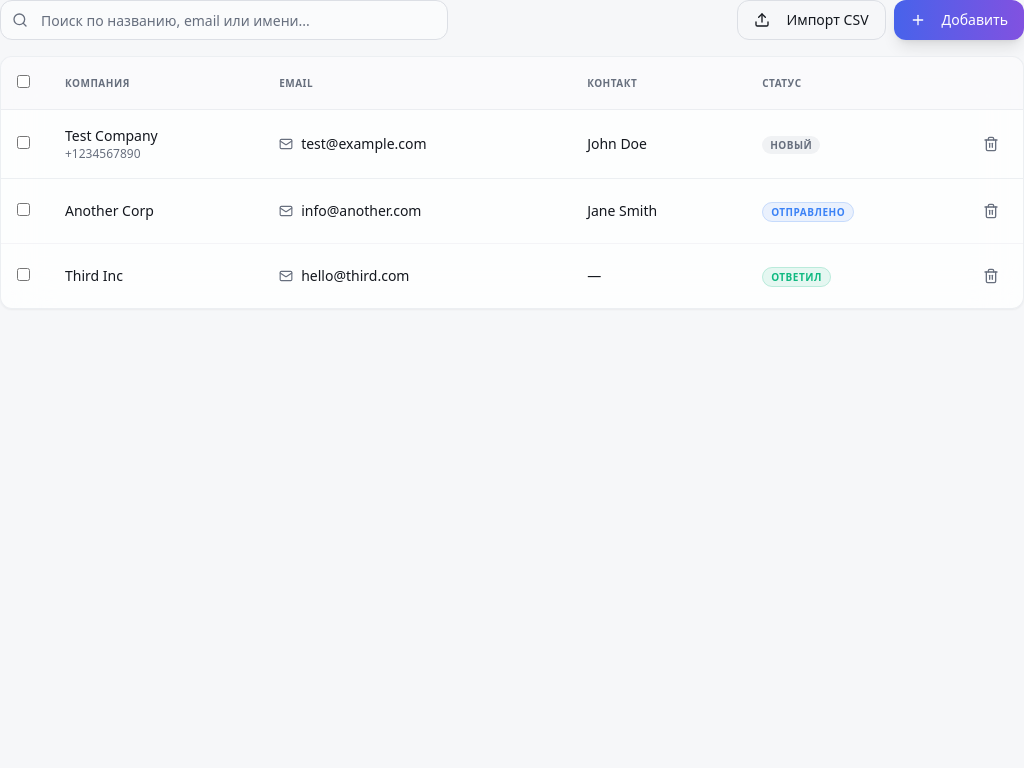
Scenario: ContactsList › add contact dialog › should open add contact dialog
Click the button "Добавить": (959, 20) [894,0,1023,40]
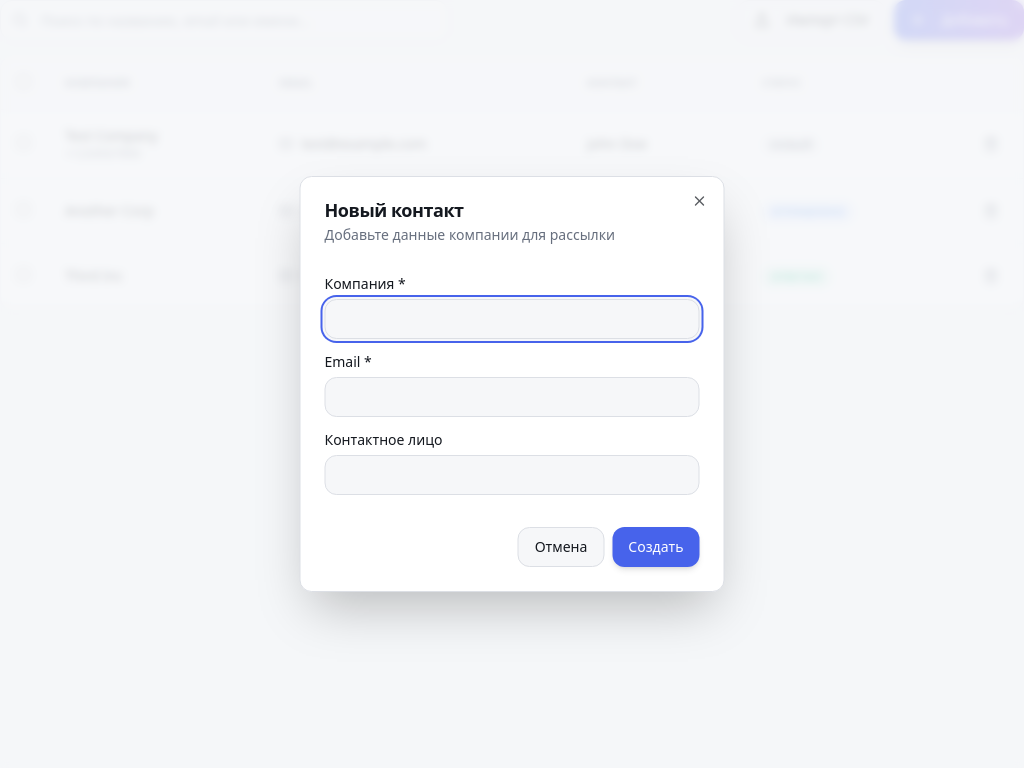
Check: the heading "Новый контакт" is shown, box [324,198,464,222]
